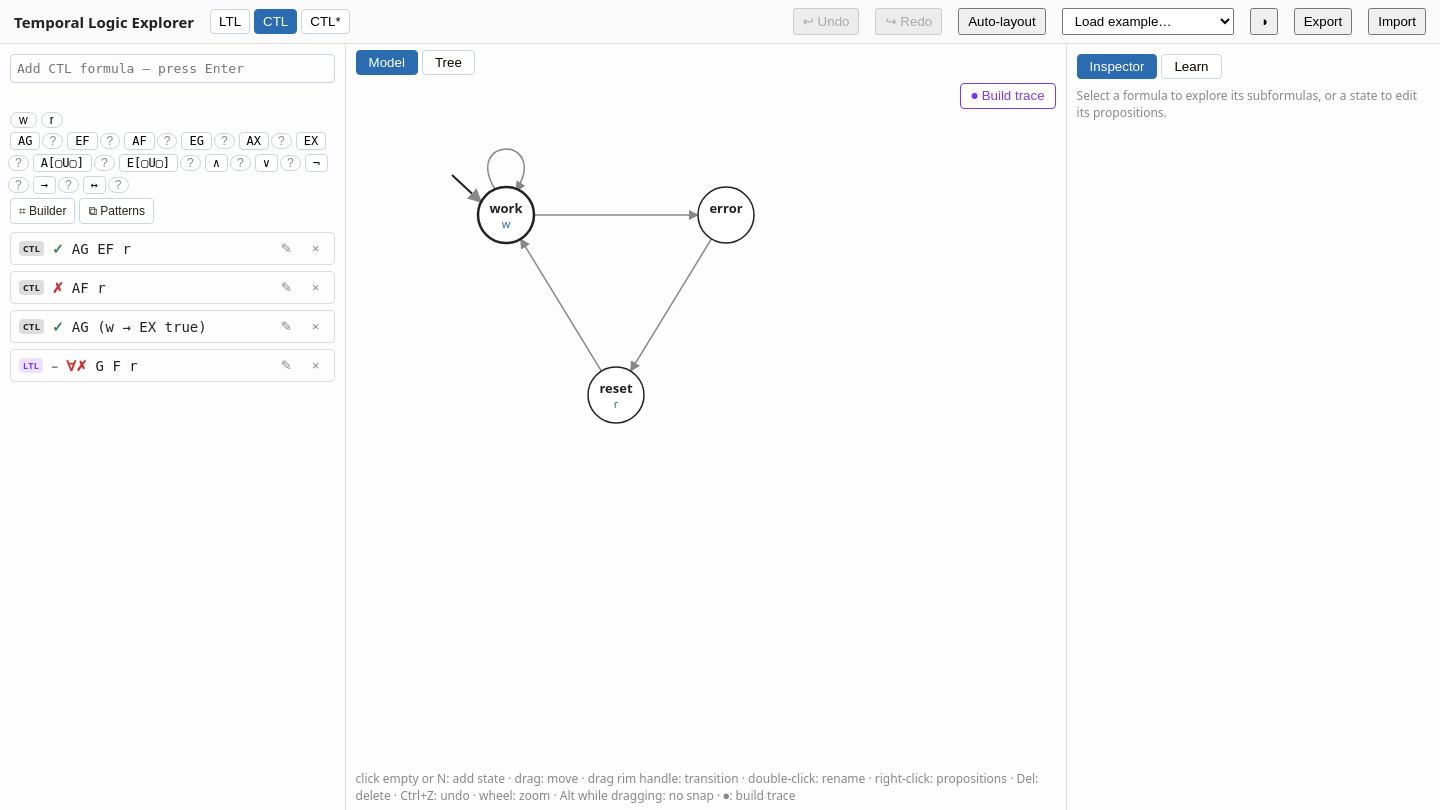
Scenario: Workbench drawer › is closed by default; ⌗ Builder opens it in builder mode inside the center pane, over a backdrop
The width and height of the screenshot is (1440, 810).
Click the button "⌗ Builder": (43, 211) [10,198,76,224]
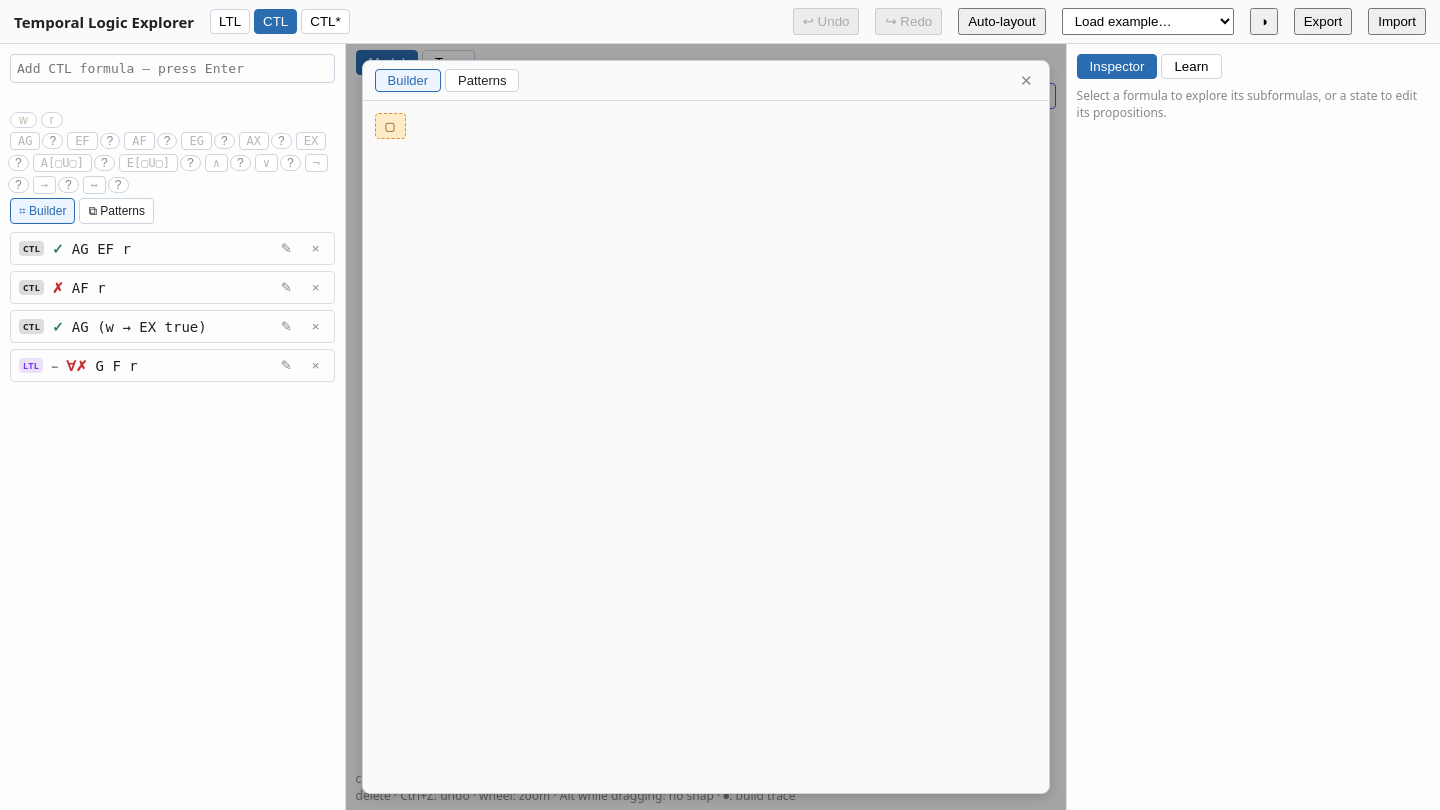
Check: the icon "work w error reset r" is shown, box [346,75,1066,809]
Check: the element with class "workbench-backdrop" is shown, box [346,44,1066,809]
Check: the element with class "builder-view" is shown, box [375,113,406,139]
